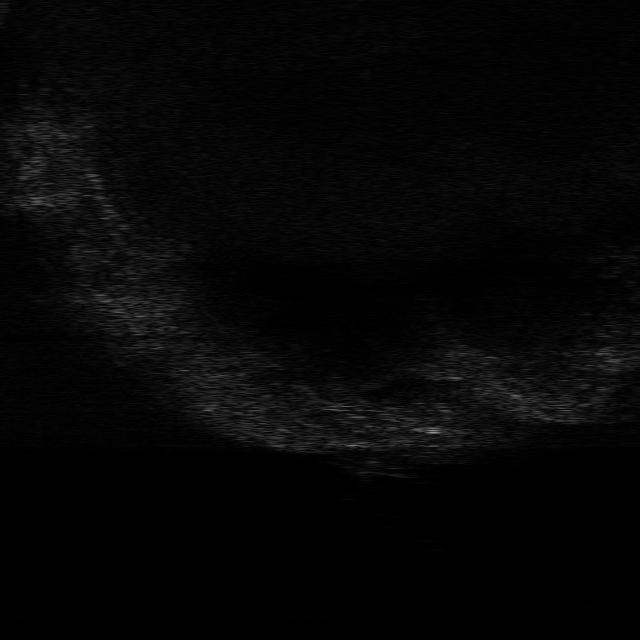plane: (329, 454, 415, 481)
